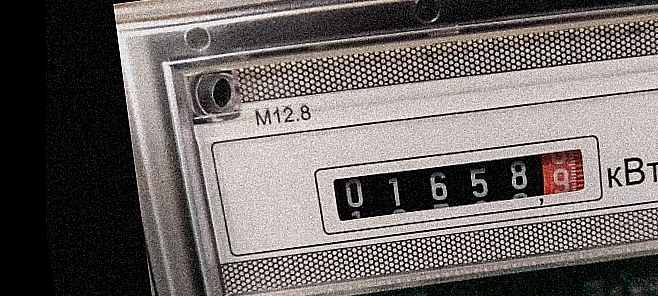0: (342, 176, 366, 208)
1: (385, 174, 406, 208)
5: (467, 164, 492, 198)
6: (427, 167, 451, 202)
8: (507, 156, 531, 191)
9: (549, 165, 573, 195)
screen: (304, 122, 612, 244)
